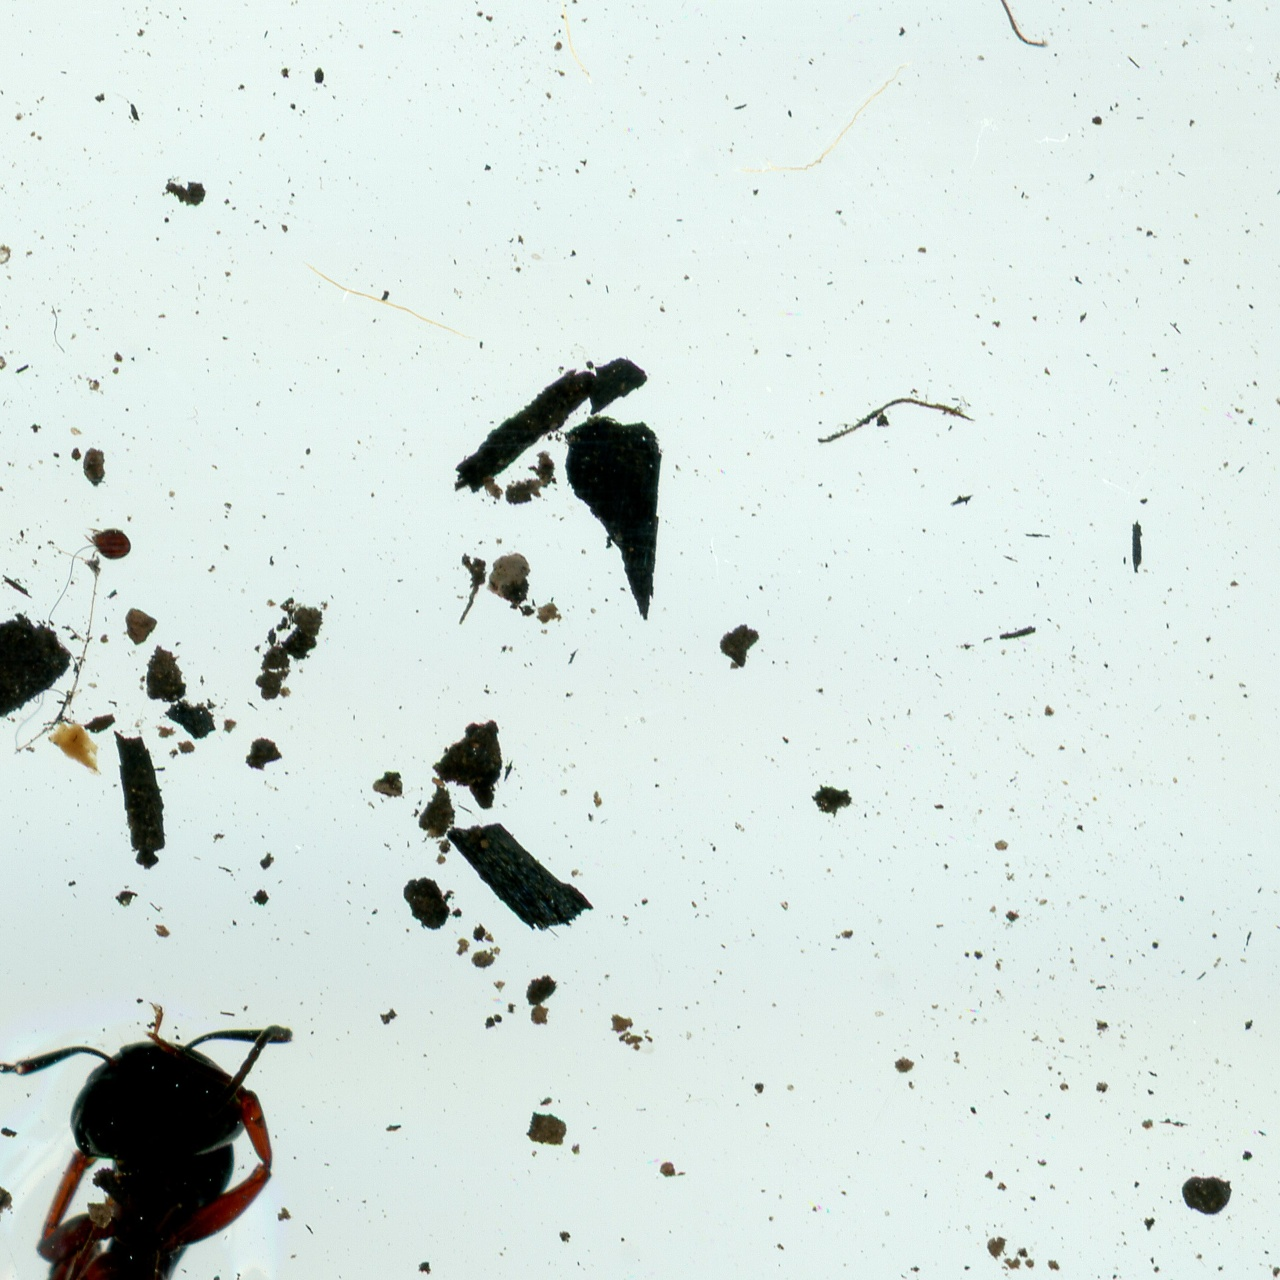arthropod: (0, 999, 297, 1280), (823, 0, 1248, 69), (75, 523, 133, 564)
